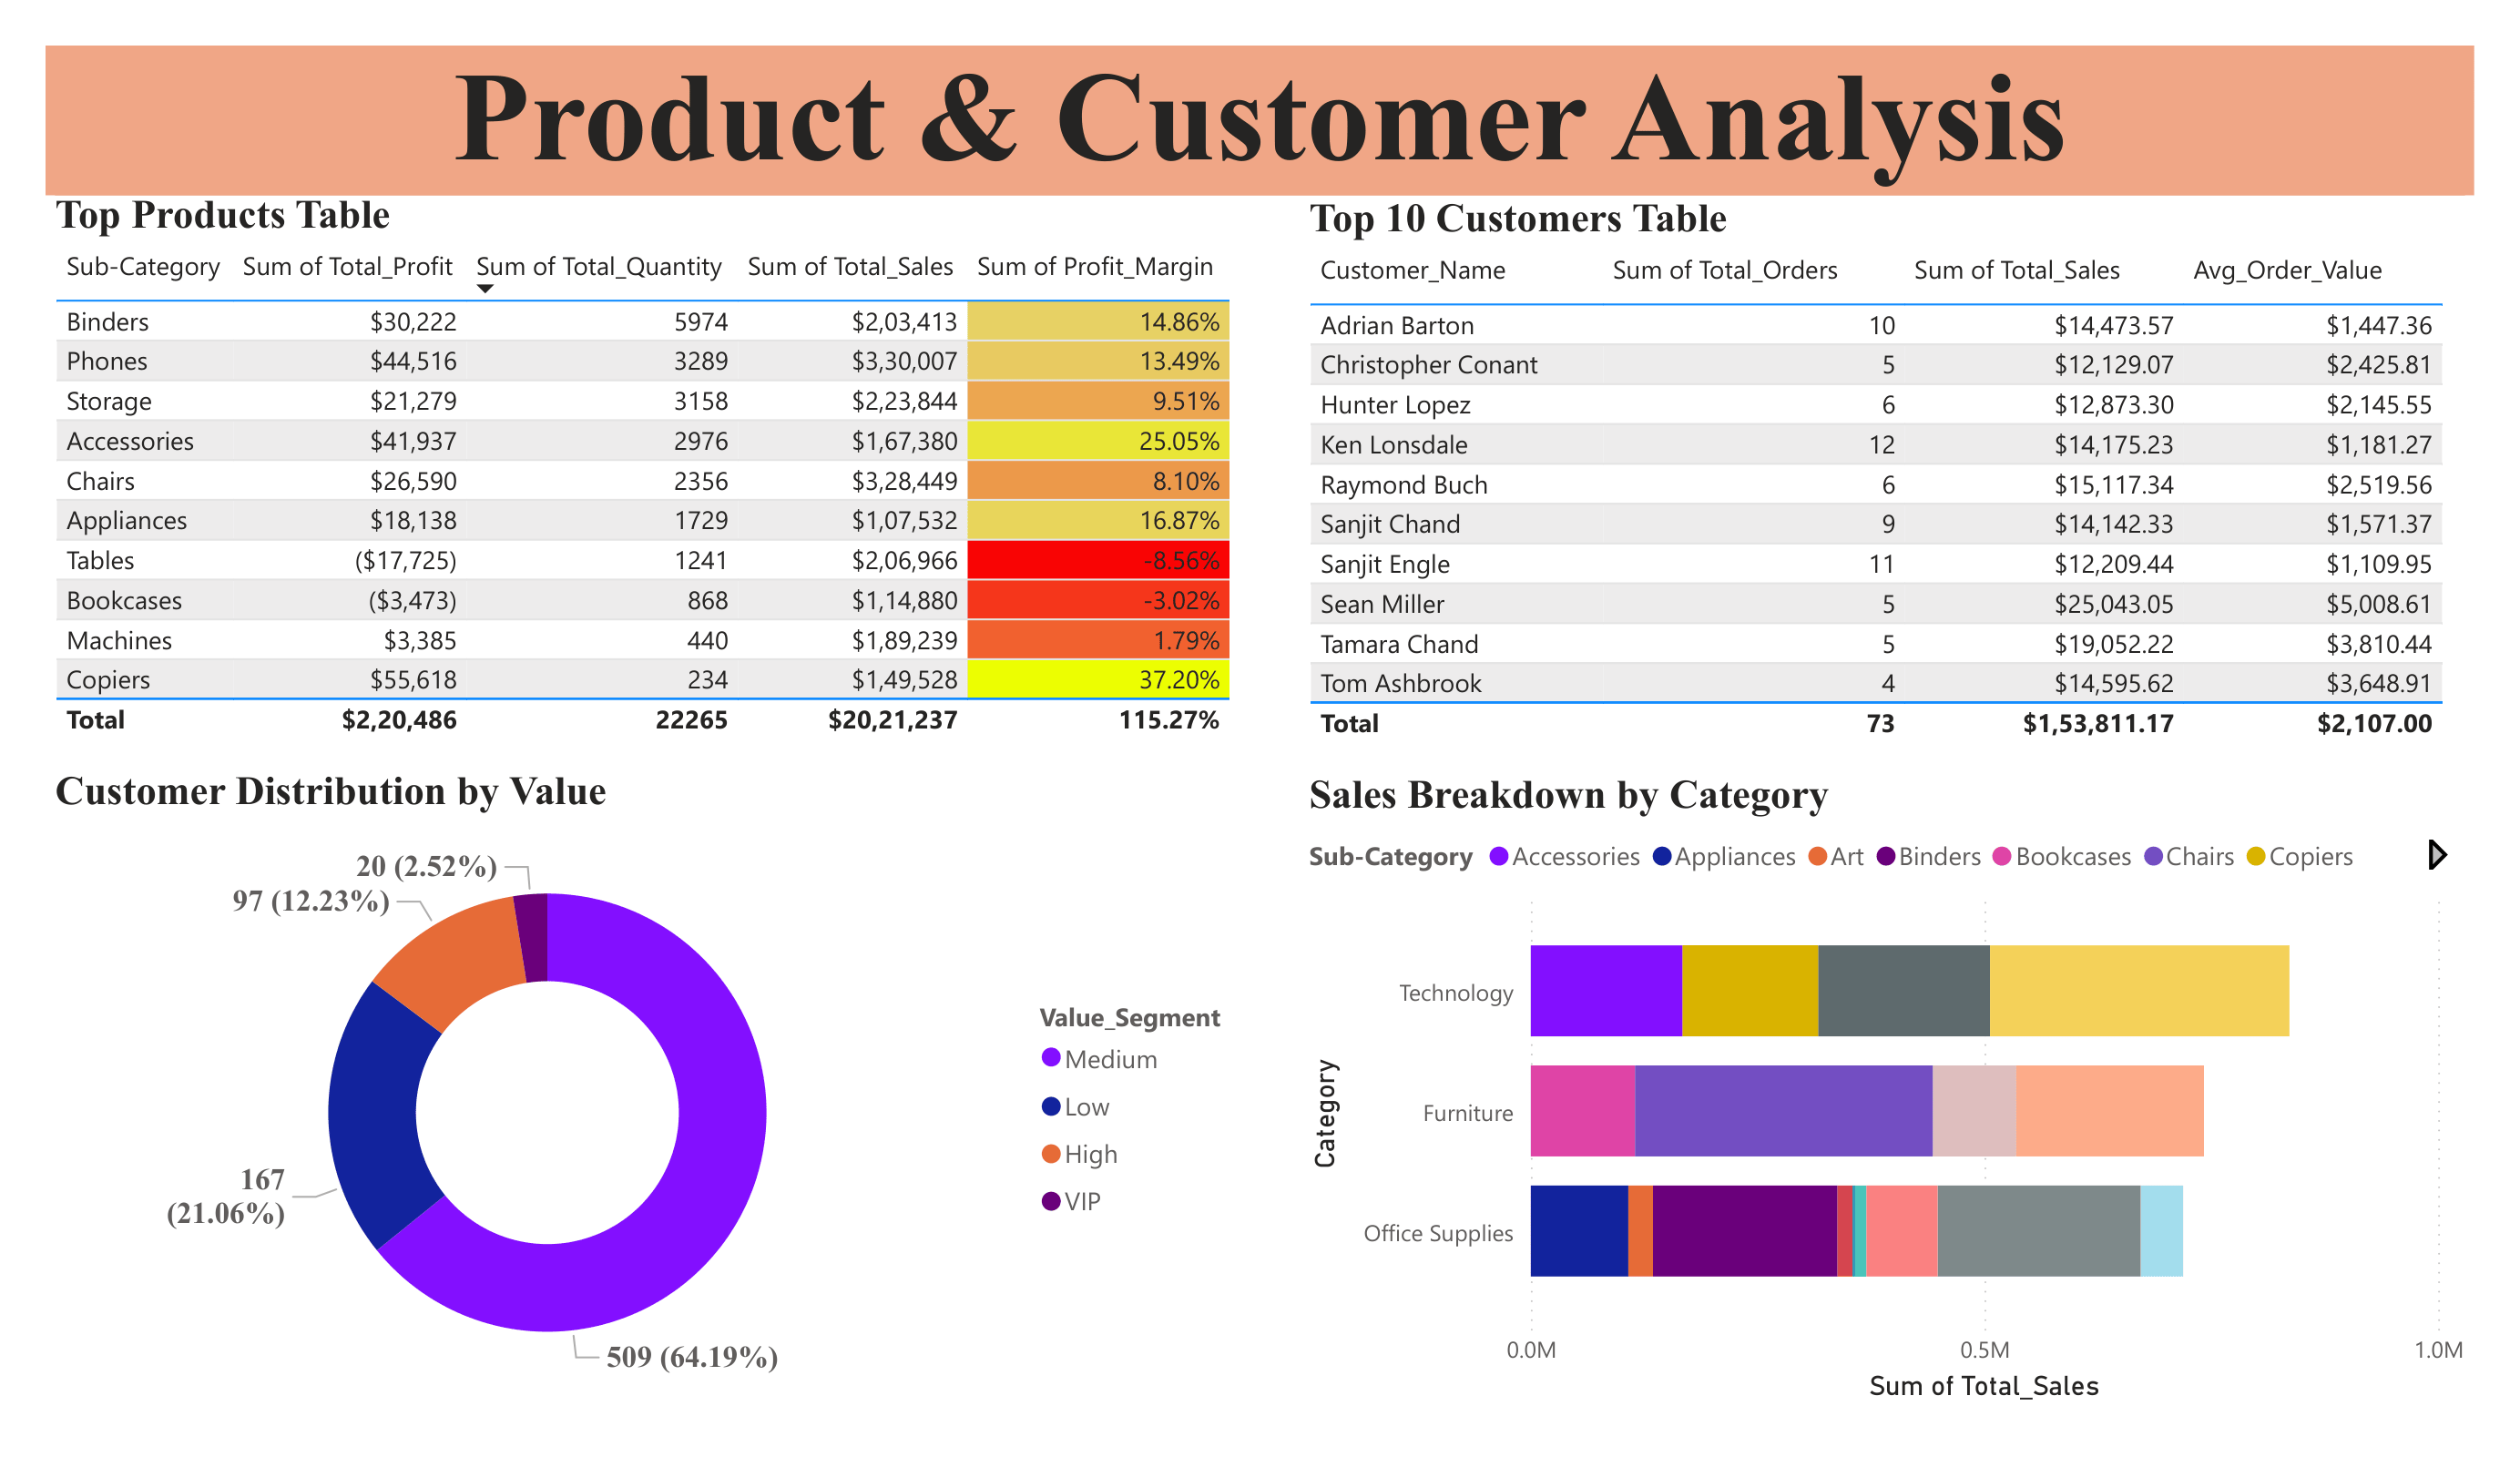

The page's visual inventory and layout, read from the dashboard file:
{"tool":"powerbi","page":{"name":"Product & Customer  Analysis","canvas":[1280,720],"ordinal":1},"visuals":[{"type":"tableEx","title":"Top Products Table","fields":{"Values":["product_summary.Sub-Category","Sum(product_summary.Total_Profit)","Sum(product_summary.Total_Quantity)","Sum(product_summary.Total_Sales)","Sum(product_summary.Profit_Margin)"]},"box":[0,77.1,641.4,304.3],"z":0},{"type":"donutChart","title":"Customer Distribution by Value","fields":{"Y":["CountNonNull(customer_summary.Customer ID)"],"Category":["customer_summary.Value_Segment"]},"box":[0,381.4,641.4,338.6],"z":1000},{"type":"tableEx","title":"Top 10 Customers Table","fields":{"Values":["customer_summary.Customer_Name","Sum(customer_summary.Total_Orders)","Sum(customer_summary.Total_Sales)","customer_summary.Avg_Order_Value"]},"box":[661.4,78.6,618.6,304.3],"z":2000},{"type":"barChart","title":"Sales Breakdown by Category","fields":{"Category":["product_summary.Category"],"Y":["Sum(product_summary.Total_Sales)"],"Series":["product_summary.Sub-Category"]},"box":[661.4,382.9,618.6,337.1],"z":3000},{"type":"textbox","title":"Product & Customer Analysis","box":[0,0,1280,78.6],"z":4000}]}

Visuals, with their boxes on the page's 1280x720 design canvas (x1, y1, x2, y2). These are canvas units, not pixel positions in the 2520x1457 screenshot, which may show the page scaled, cropped or inside an application window:
"Top Products Table" tableEx: bbox(0, 77, 641, 381)
"Customer Distribution by Value" donutChart: bbox(0, 381, 641, 720)
"Top 10 Customers Table" tableEx: bbox(661, 79, 1280, 383)
"Sales Breakdown by Category" barChart: bbox(661, 383, 1280, 720)
"Product & Customer Analysis" textbox: bbox(0, 0, 1280, 79)
